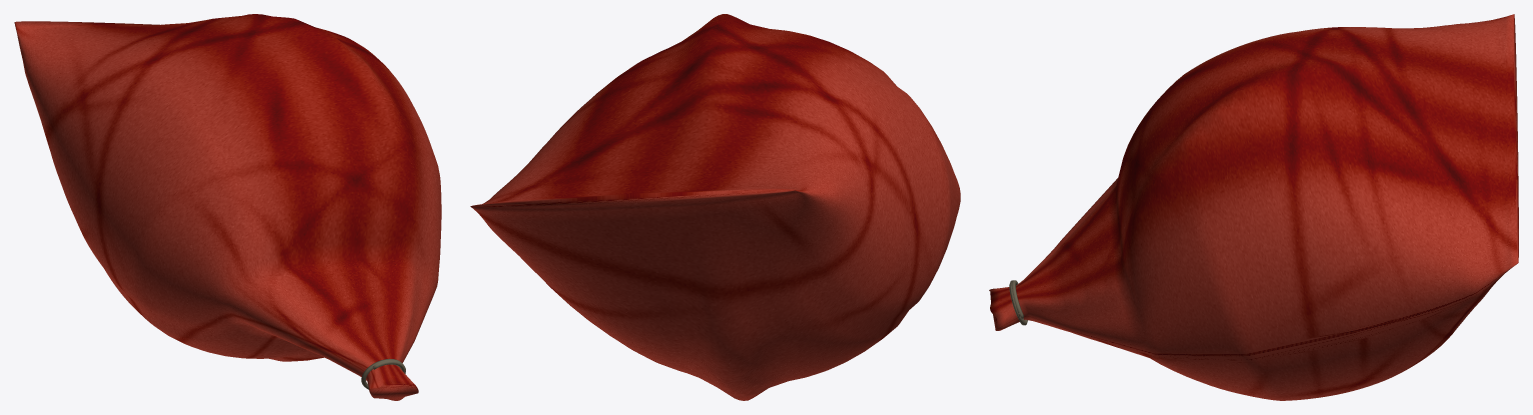
Rendered from peach_01_030.glb.
The picture shows the model from 3 angles, left to right: view 1: azimuth 30°, elevation 25°; view 2: azimuth 150°, elevation 25°; view 3: azimuth 270°, elevation 25°; orthographic projection. The views are drawn at different scales.
Visible parts, largest first — view 1: export_Tree01/shoot2_10_1/bag; view 2: export_Tree01/shoot2_10_1/bag; view 3: export_Tree01/shoot2_10_1/bag.
Part boxes in pixels (x1=…): export_Tree01/shoot2_10_1/bag: x1=14, y1=14, x2=441, y2=400; export_Tree01/shoot2_10_1/bag: x1=470, y1=14, x2=960, y2=400; export_Tree01/shoot2_10_1/bag: x1=989, y1=14, x2=1518, y2=400.
Size of the model in its own units: 0.1005 by 0.0951 by 0.1338.
4 materials, 1 textured.
